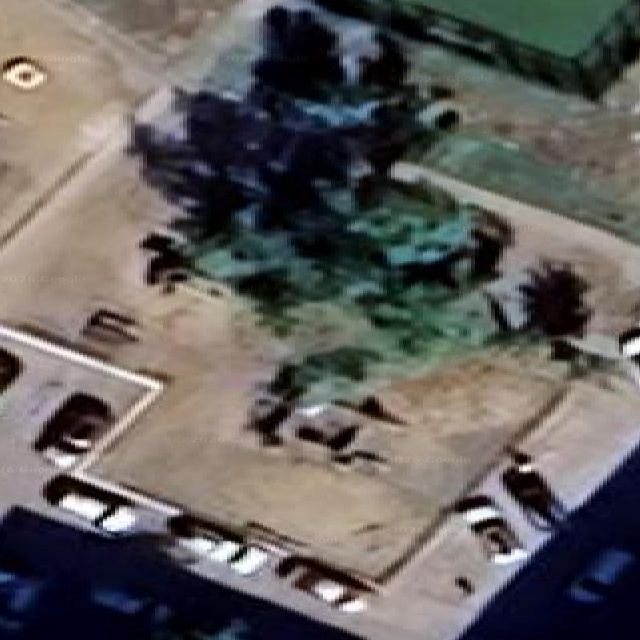car: (168, 514, 268, 575), (34, 393, 113, 467), (43, 475, 136, 535), (276, 556, 371, 612), (501, 452, 566, 530), (456, 496, 526, 564), (568, 548, 636, 603), (0, 554, 43, 632)
